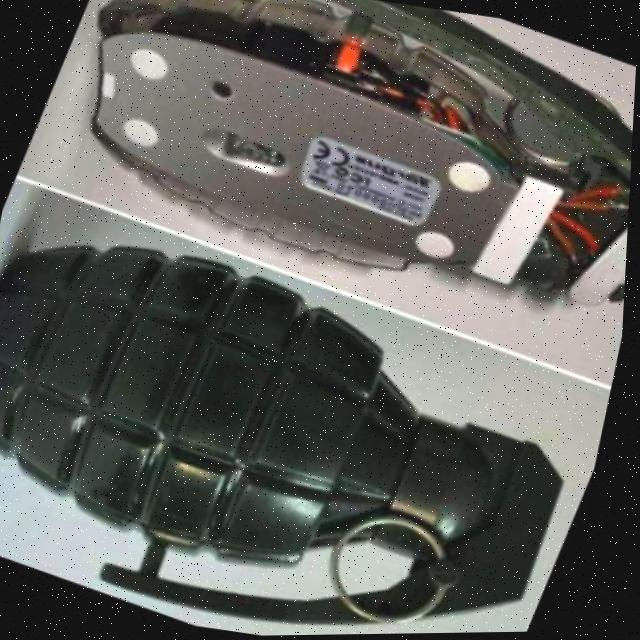grenade: (0, 179, 632, 640)
